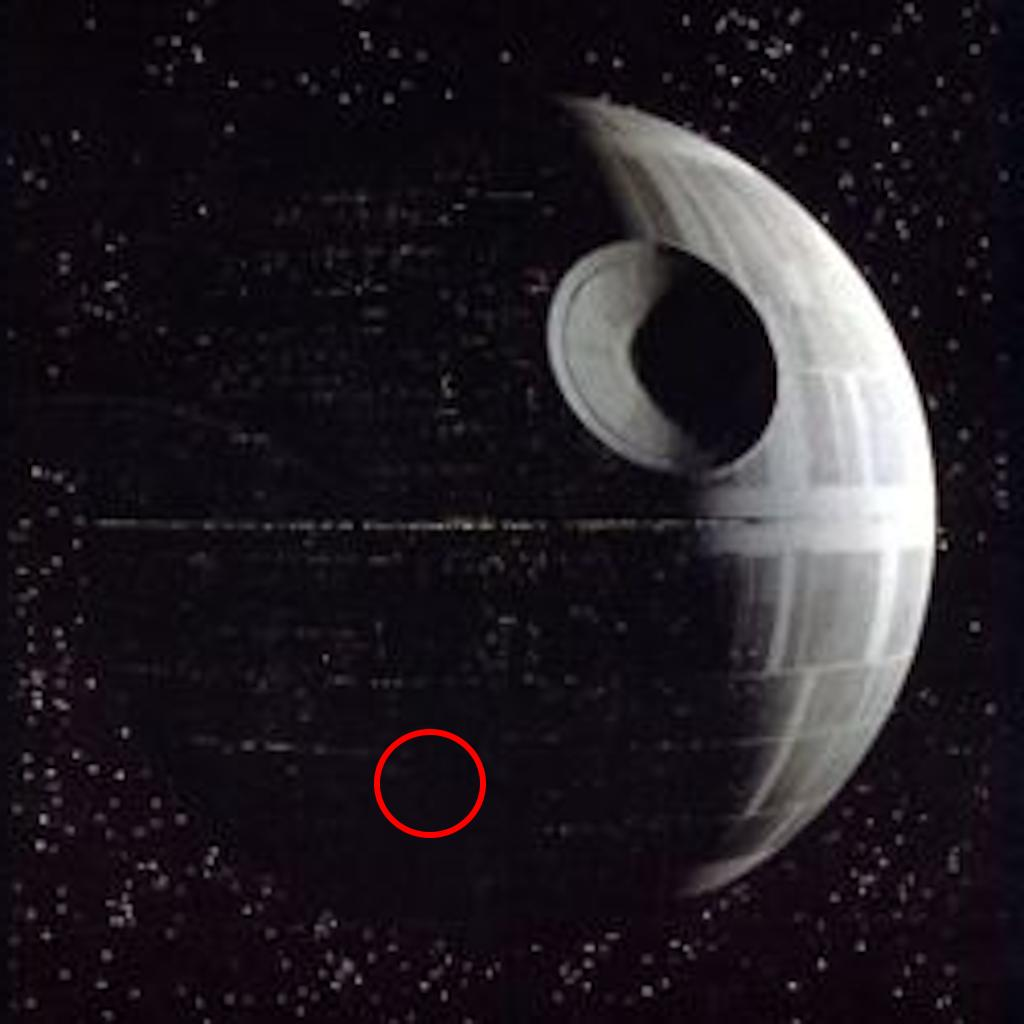Death-star: (50, 92, 937, 944)
